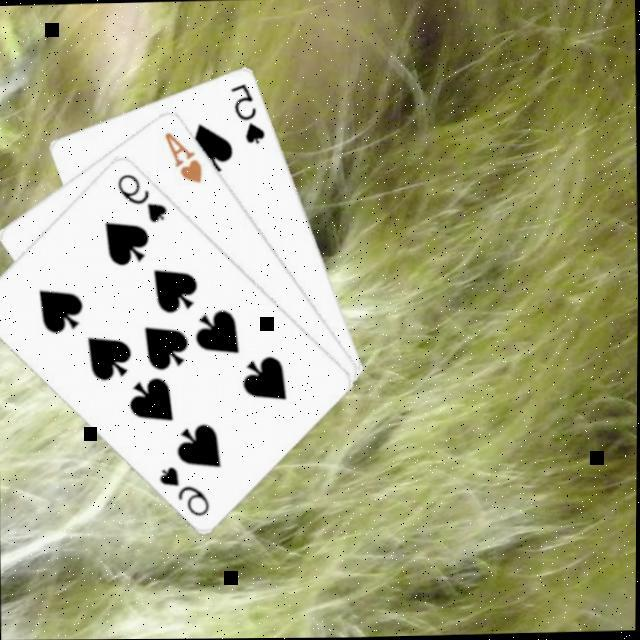5S: (226, 80, 268, 148)
9S: (154, 463, 212, 522), (113, 171, 170, 228)
AH: (159, 129, 205, 189)
